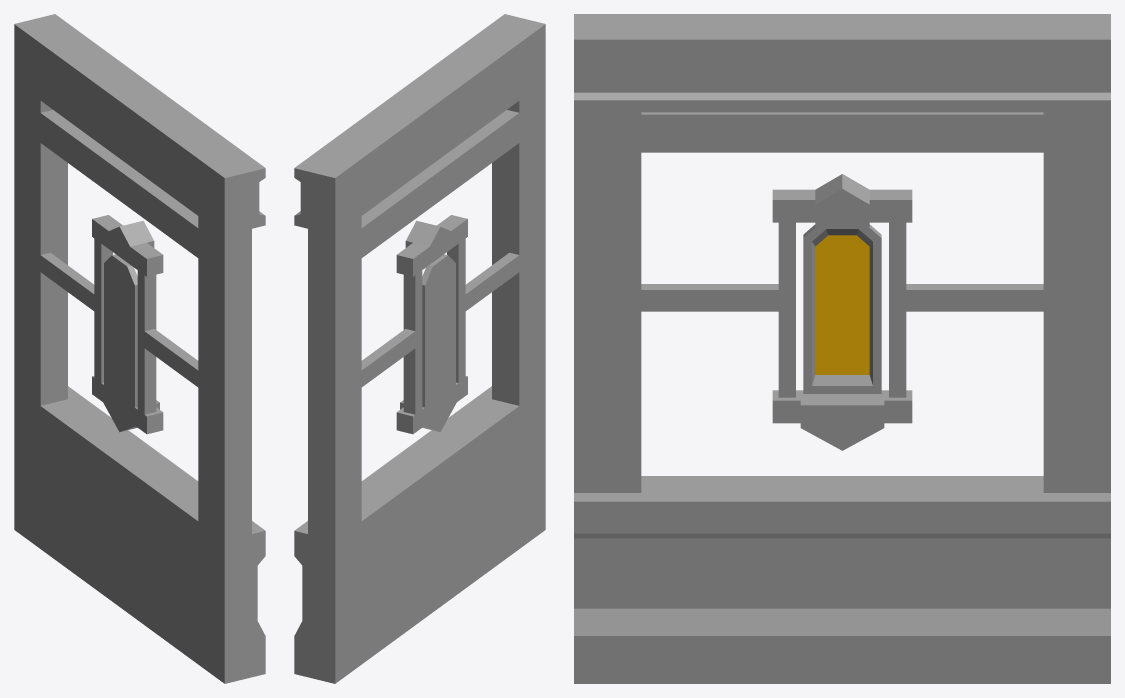
File: Dungeon_New_Wall_Decoration_02.fbx
3 renders of one model, left to right at view 1: azimuth 30°, elevation 25°; view 2: azimuth 150°, elevation 25°; view 3: azimuth 270°, elevation 25°, orthographic. The views are drawn at different scales.
Parts seen in each view (by area): view 1: Model; view 2: Model; view 3: Model.
Part boxes in pixels (<box>): Model: <box>14,14,265,683</box>; Model: <box>294,14,545,683</box>; Model: <box>574,14,1110,683</box>.
Size of the model in its own units: 90 by 1060 by 800.
